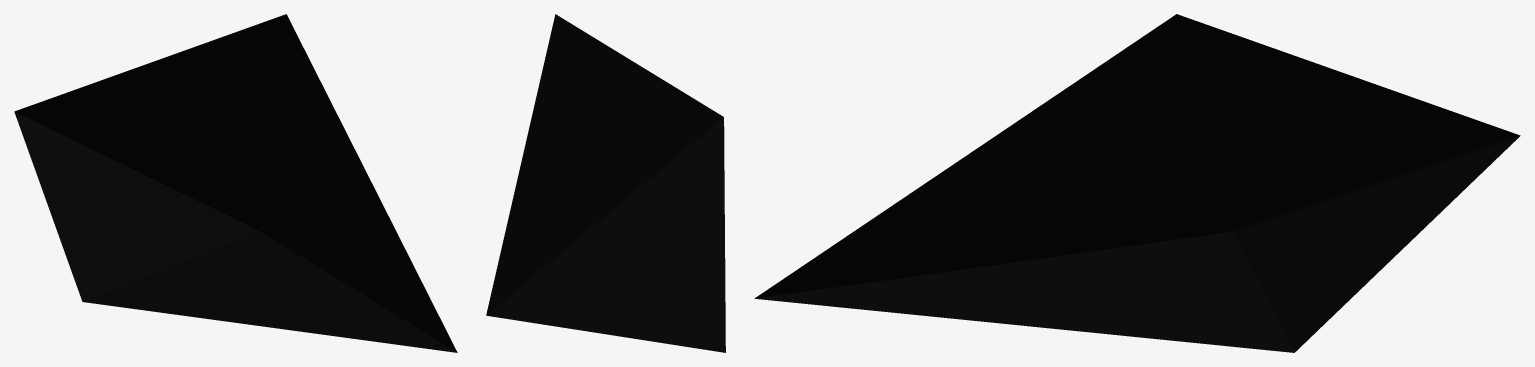
The picture shows the model from 3 angles, left to right: view 1: azimuth 30°, elevation 25°; view 2: azimuth 150°, elevation 25°; view 3: azimuth 270°, elevation 25°; orthographic projection. The views are drawn at different scales.
Bounding box in the file's own units: 0.058 × 0.0713 × 0.1493.
1 material, 1 textured.
